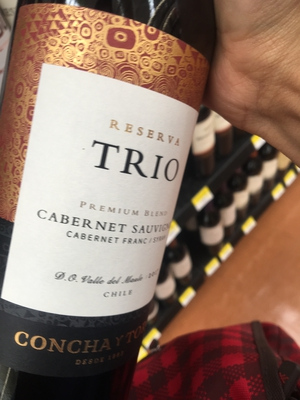trio cabernet sauvignon: (2, 2, 216, 400)
